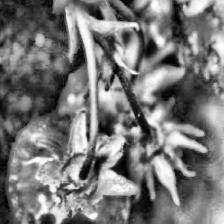Gray Mold: (106, 99, 208, 205)
